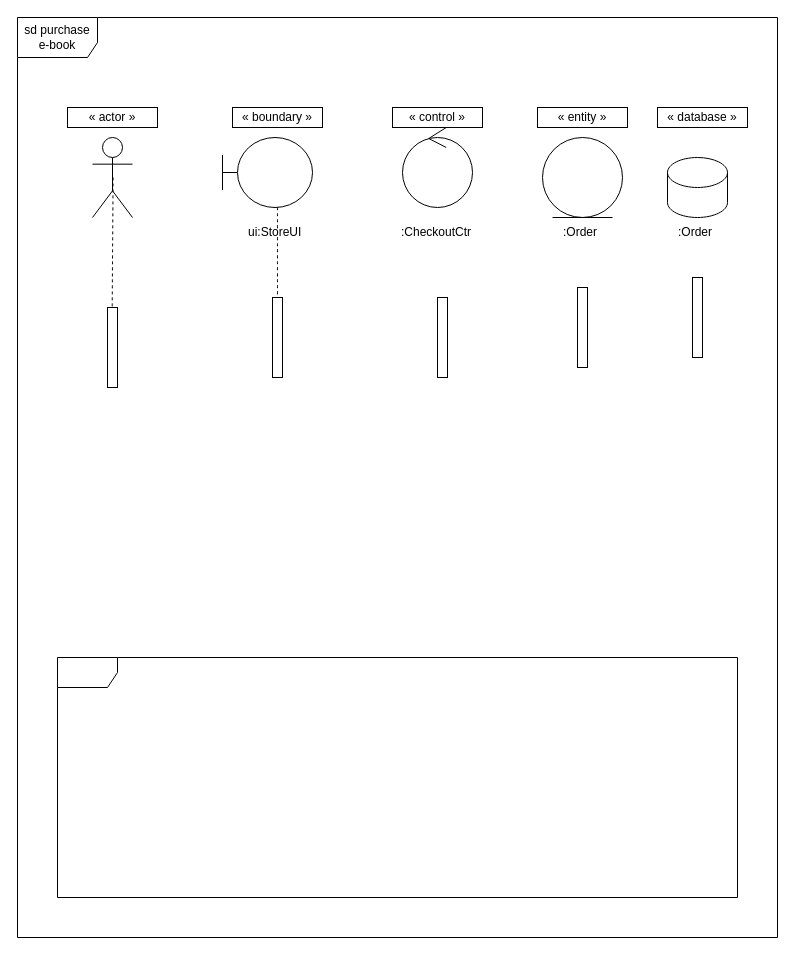
Some shapes in this 795 by 955 pixel diagram are drawn without their labels. Here are the shapes that lost their labels. From the top down, the centre of each, then its label:
At point 112,177: "Cust:Customer".
At point 397,777: "alt".
